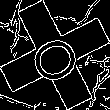O_NE: (23, 24, 87, 86)
